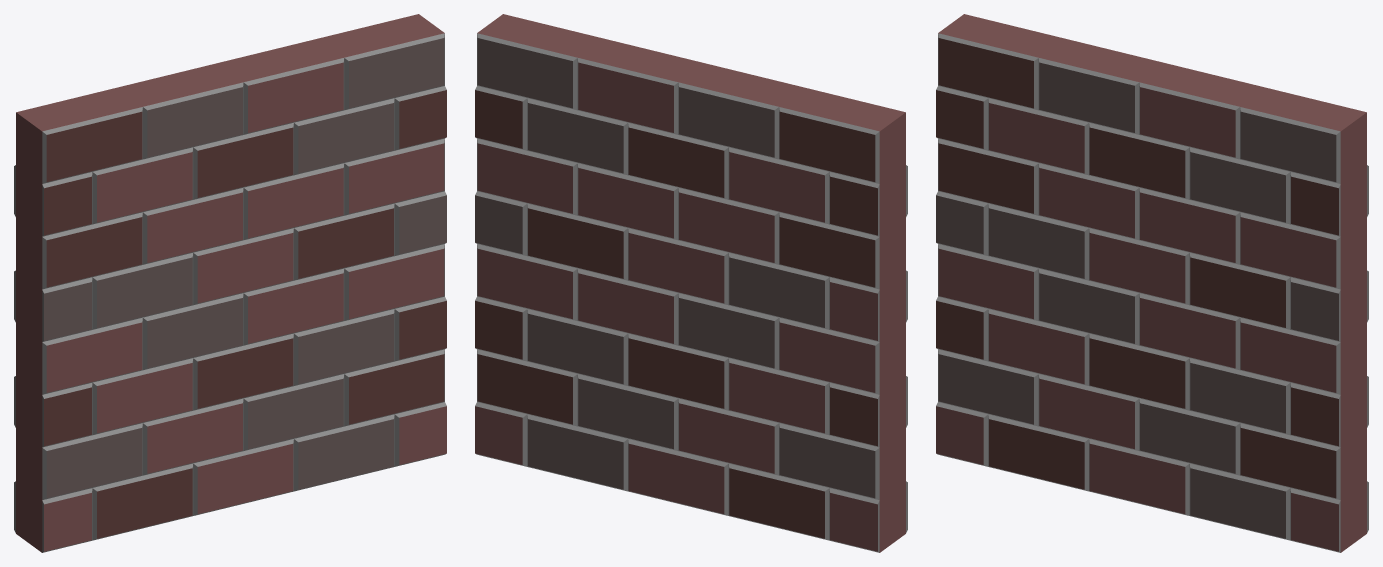
Rendered from steampunk_wall_brick.fbx.
3 renders of one model, left to right at view 1: azimuth 30°, elevation 25°; view 2: azimuth 150°, elevation 25°; view 3: azimuth 330°, elevation 25°, orthographic.
Visible parts, largest first — view 1: Cube.001; view 2: Cube.001; view 3: Cube.001.
Boxes of the visible parts, bbox=[...] form: Cube.001: bbox=[14, 14, 446, 552]; Cube.001: bbox=[475, 14, 907, 552]; Cube.001: bbox=[936, 14, 1368, 552].
Bounding box in the file's own units: 3 × 3 × 0.389.
